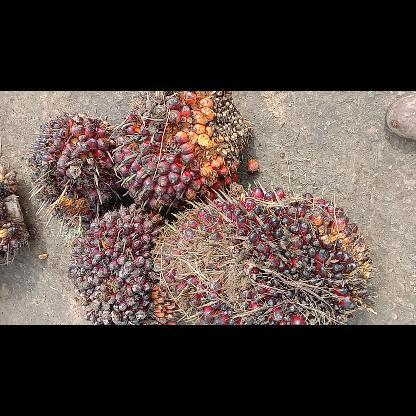Kurang masak: (152, 178, 378, 324), (66, 202, 178, 324)
TBS masak: (110, 91, 254, 213), (24, 110, 128, 230)
